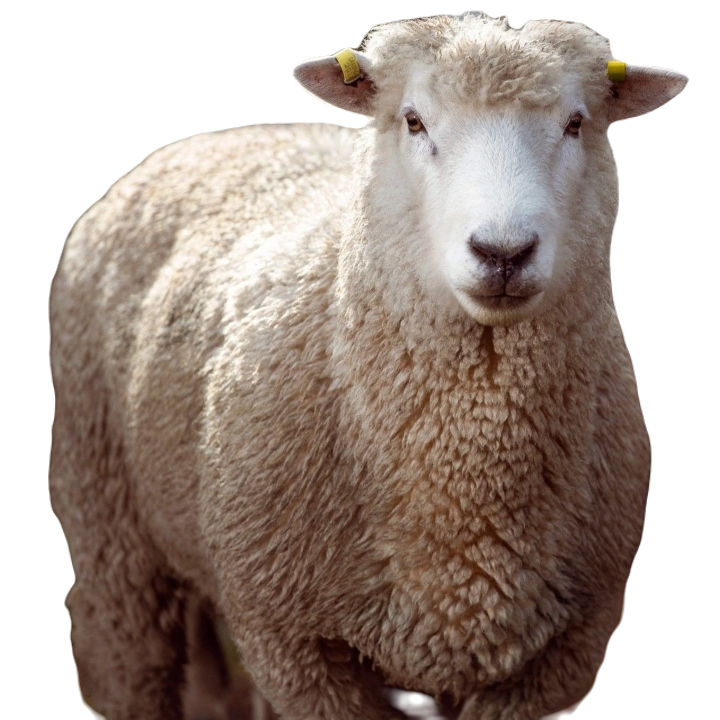Sheep: (41, 9, 695, 719)
